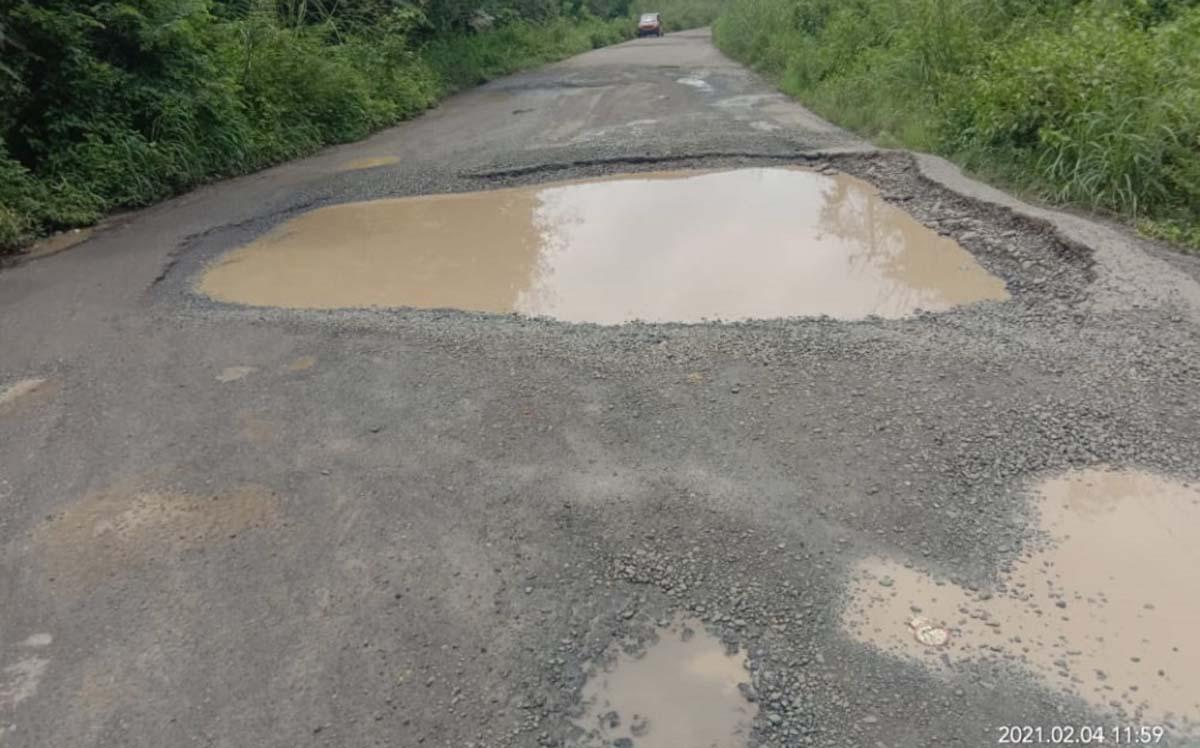Pothole: (82, 47, 1144, 312), (829, 410, 1198, 728), (555, 518, 813, 746), (0, 349, 100, 445)
